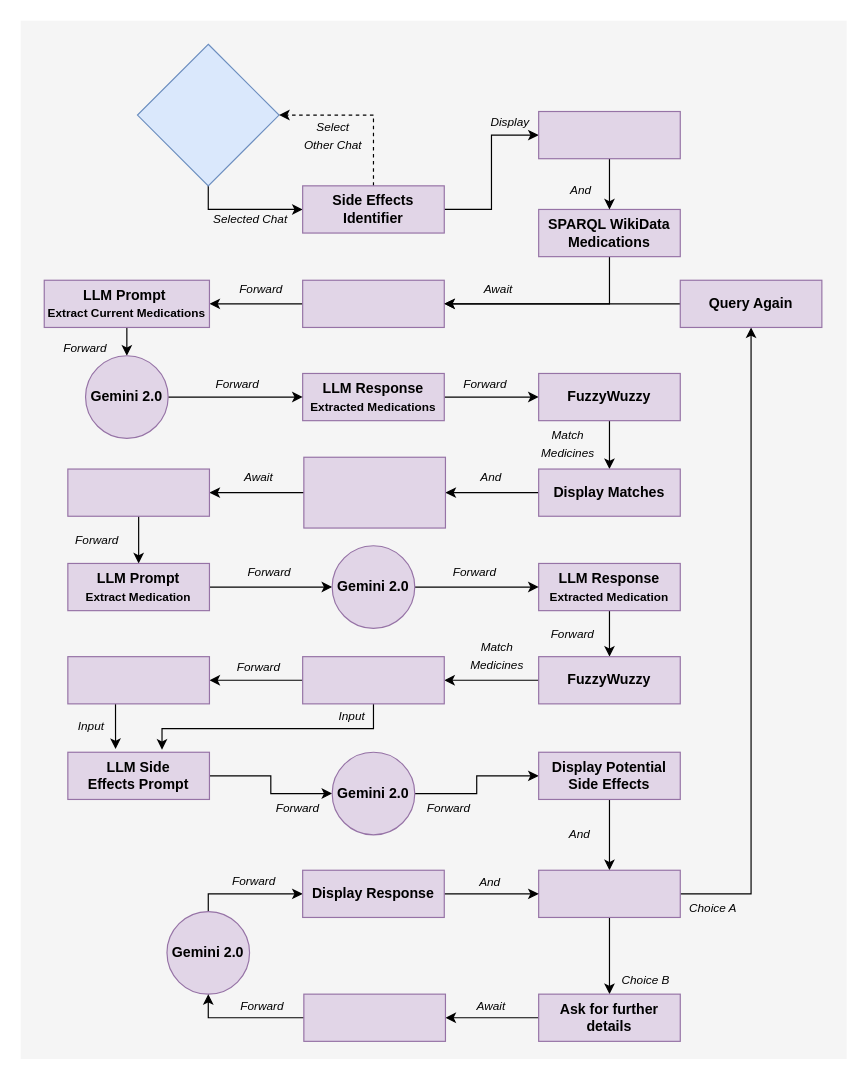
The diagram is 866 pixels wide and 1079 high, and some of its shapes have lost their labels. Here are the shapes that lost their labels. From the top down, the centre of each, then its label:
At (207,114): "Chatbot Selector".
At (608,134): "Welcome Message + User Guidelines".
At (372,303): "User Input [1]".
At (138,492): "User Input [2]".
At (374,492): "Request Another Medicine for Interaction Analysis".
At (138,679): "SPARQL WikiData for Side Effects".
At (372,679): "Display Match".
At (608,893): "Display Buttons".
At (374,1017): "User Input [ALT]".
